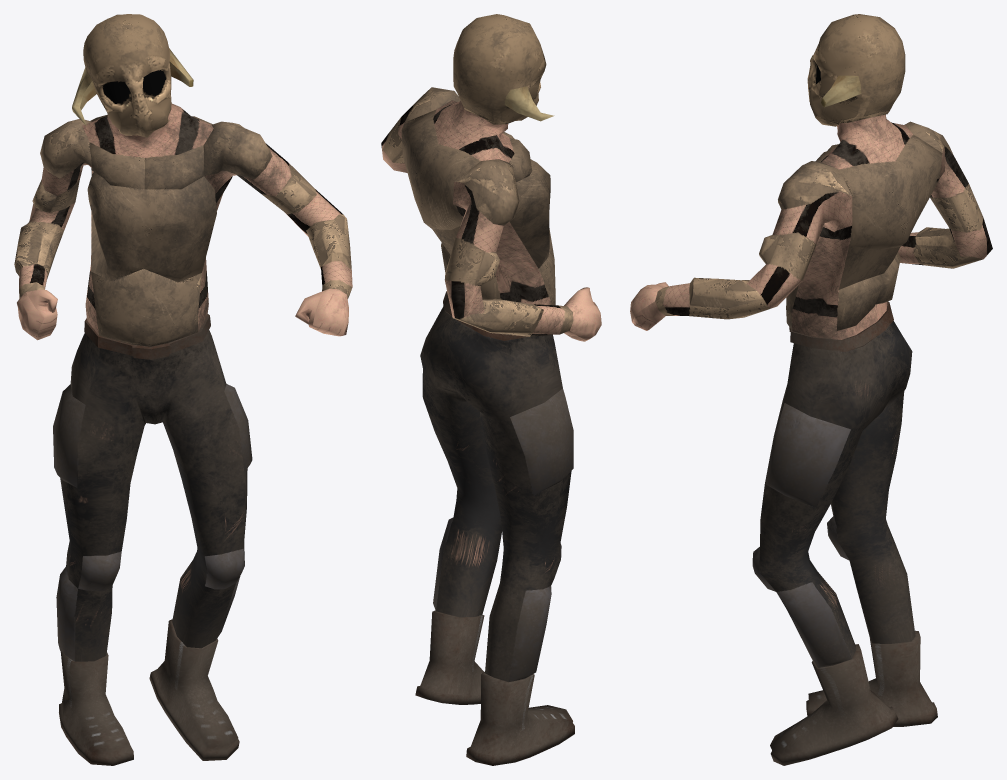
File: Anim_ataque_d2_npc1.0014.obj
The picture shows the model from 3 angles, left to right: view 1: azimuth 30°, elevation 25°; view 2: azimuth 150°, elevation 25°; view 3: azimuth 270°, elevation 25°; orthographic projection.
Parts seen in each view (by area): view 1: NPC2; view 2: NPC2; view 3: NPC2.
Part boxes in pixels (left/top/right/bottom): NPC2: left=14, top=14, right=352, bottom=765; NPC2: left=381, top=14, right=601, bottom=765; NPC2: left=630, top=14, right=992, bottom=765.
Size of the model in its own units: 3.72 by 9.59 by 4.4.
